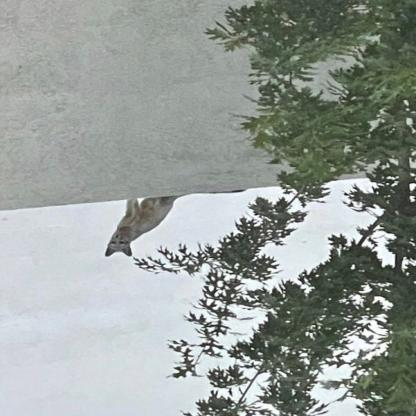zorro: (100, 187, 250, 263)
